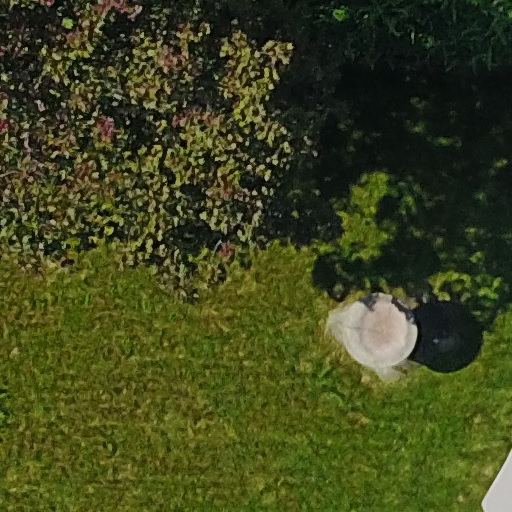bird bath: (314, 268, 425, 382)
